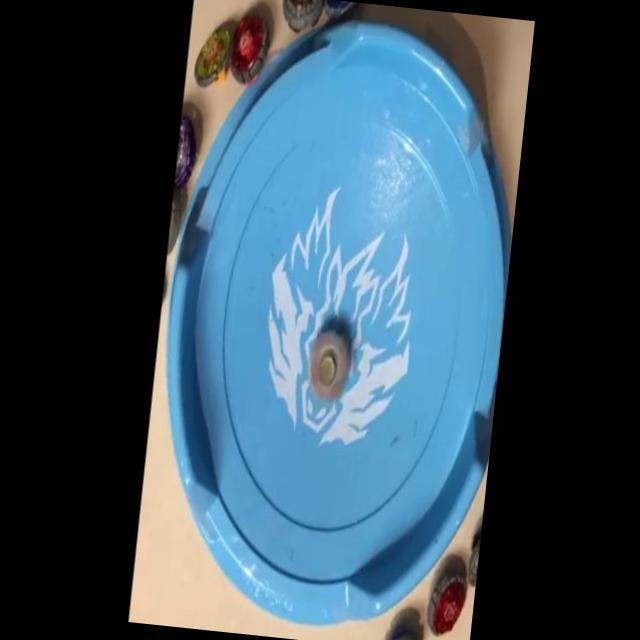Beyblade: (224, 8, 272, 87), (307, 328, 352, 402), (424, 570, 469, 638), (194, 23, 234, 89)
